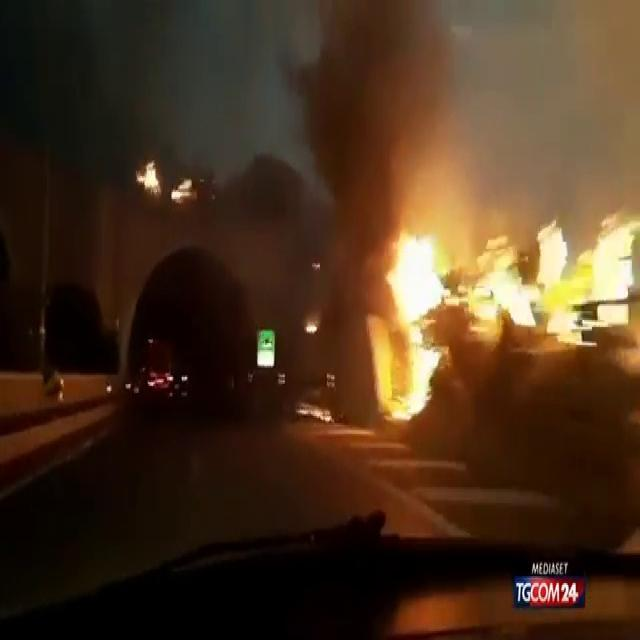Fire: (364, 202, 640, 424), (364, 214, 460, 424)
Smoke: (261, 1, 638, 223)
